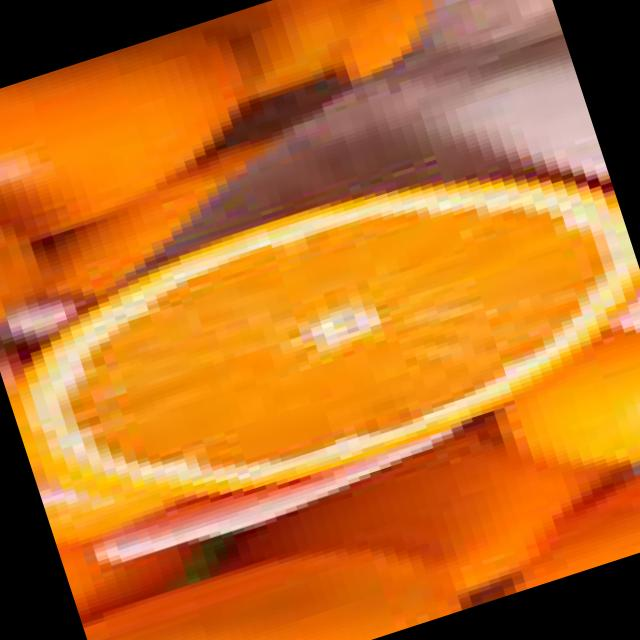orange: (13, 180, 640, 493), (224, 414, 622, 590), (0, 31, 246, 235), (82, 549, 462, 640), (497, 331, 640, 463)
